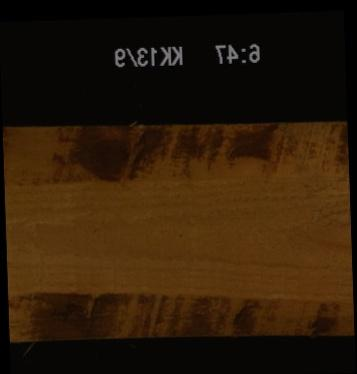wave: (3, 120, 346, 187), (7, 280, 352, 340)
